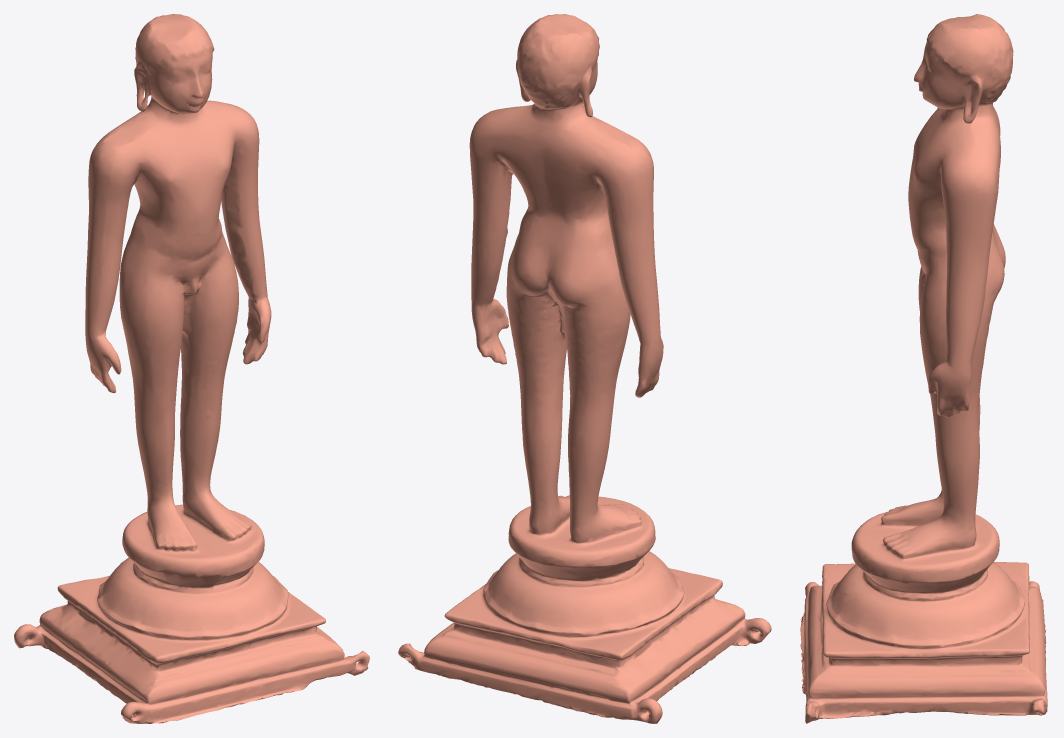
File: Budham_&_Jainam_Theerththangarar_02.glb
The picture shows the model from 3 angles, left to right: view 1: azimuth 30°, elevation 25°; view 2: azimuth 150°, elevation 25°; view 3: azimuth 270°, elevation 25°; orthographic projection. The views are drawn at different scales.
Visible parts, largest first — view 1: Budham_&_Jainam_Theerththangarar_02; view 2: Budham_&_Jainam_Theerththangarar_02; view 3: Budham_&_Jainam_Theerththangarar_02.
Boxes of the visible parts, x1,y1,x2,y2 form: Budham_&_Jainam_Theerththangarar_02: [14, 14, 369, 723]; Budham_&_Jainam_Theerththangarar_02: [398, 14, 771, 723]; Budham_&_Jainam_Theerththangarar_02: [800, 14, 1047, 723].
Bounding box in the file's own units: 0.3938 × 0.9465 × 0.3298.
